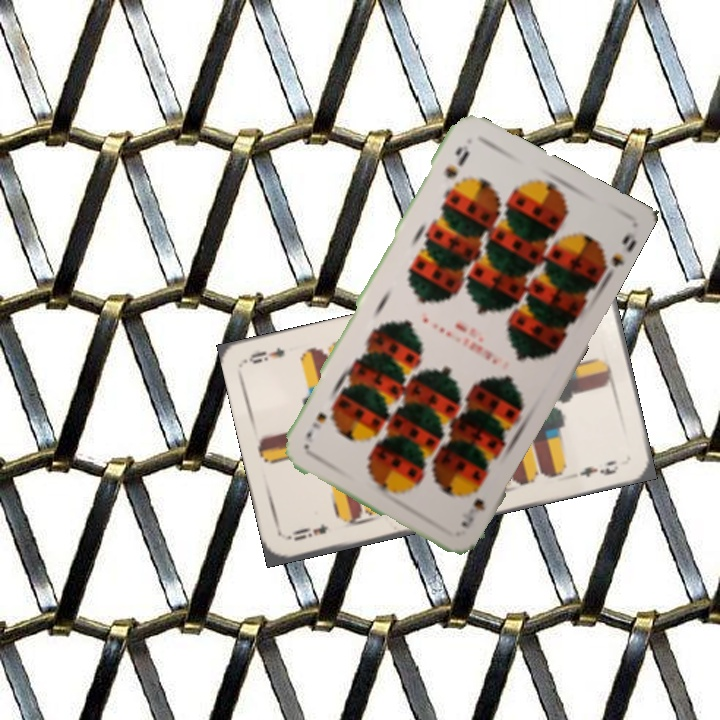E9: (285, 519, 331, 544)
S9: (441, 141, 472, 181), (457, 494, 488, 531)
